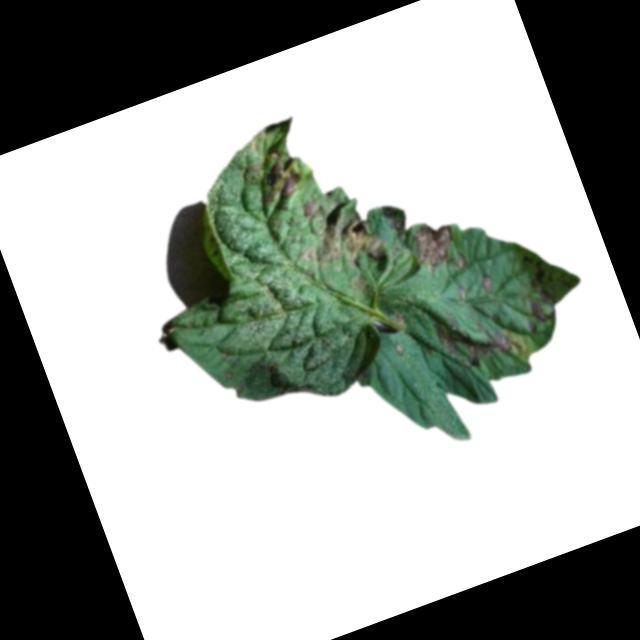Early_blight: (286, 194, 389, 285), (428, 291, 525, 381), (246, 135, 304, 205), (403, 213, 461, 273), (518, 295, 551, 334), (475, 269, 498, 296), (299, 198, 319, 219)
